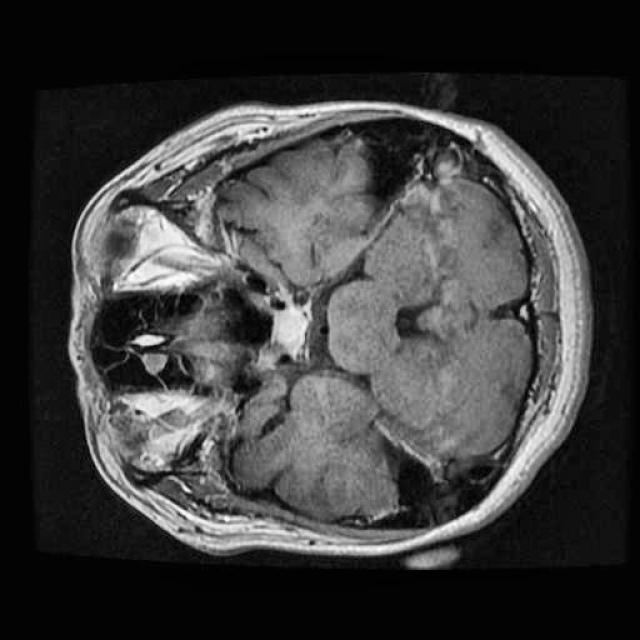Tumor: (265, 294, 320, 368)
